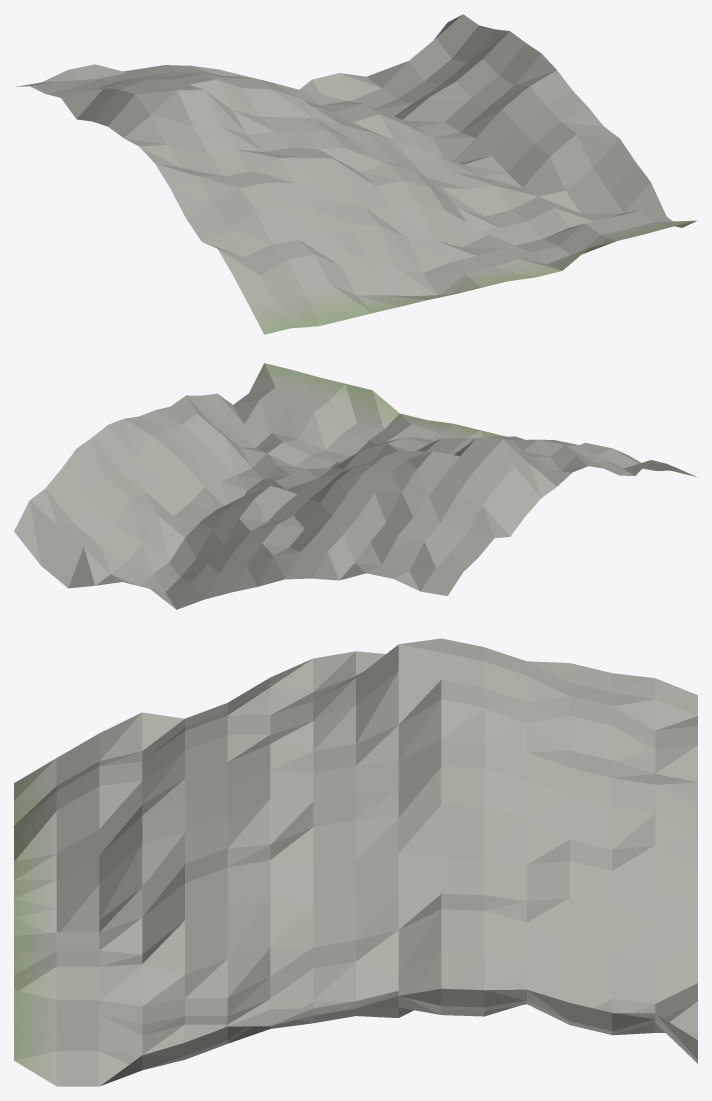
3 views of the same model, one above another, from view 1: azimuth 30°, elevation 25°; view 2: azimuth 150°, elevation 25°; view 3: azimuth 270°, elevation 25° (orthographic). The views are drawn at different scales.
Size of the model in its own units: 32 by 10.48 by 32.
